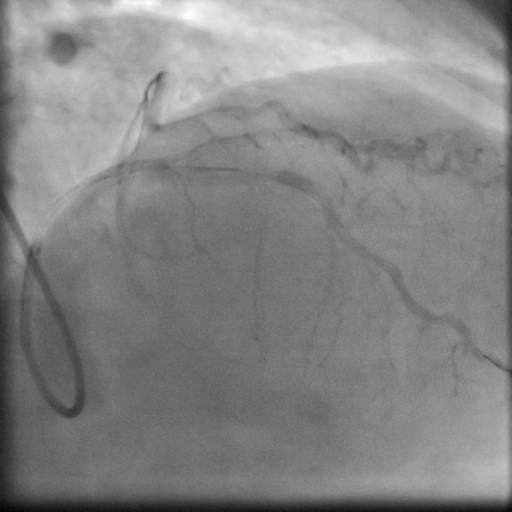Stenosis: (243, 160, 278, 190)
